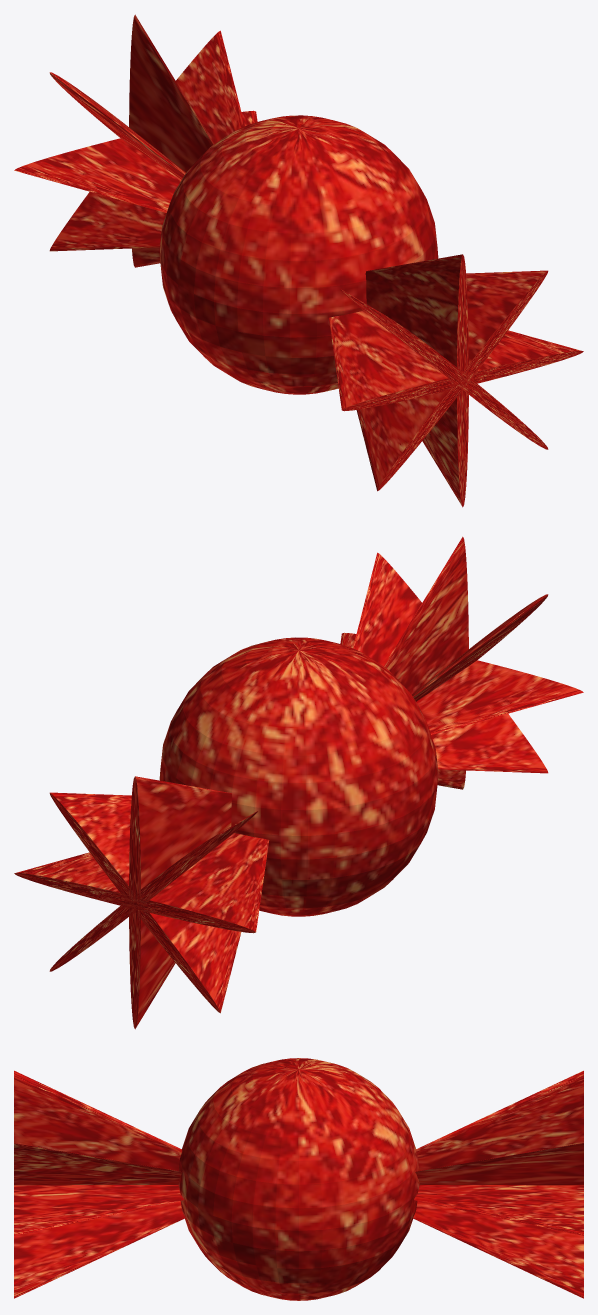
File: candy.glb
3 renders of one model, top to bottom at view 1: azimuth 30°, elevation 25°; view 2: azimuth 150°, elevation 25°; view 3: azimuth 270°, elevation 25°, orthographic. The views are drawn at different scales.
Visible parts, largest first — view 1: Sphere, Cone.005, Cone.004, Cone.002, Cone.006, Cone.003, Cone, Cone.001, Cone.007; view 2: Sphere, Cone.003, Cone, Cone.006, Cone.002, Cone.005, Cone.004, Cone.007, Cone.001; view 3: Sphere, Cone.001, Cone.005, Cone.007, Cone.003, Cone.004, Cone, Cone.002, Cone.006.
Boxes of the visible parts, x1,y1,x2,y2 form: Sphere: [159, 115, 438, 394]; Cone.005: [365, 254, 468, 507]; Cone.004: [328, 311, 583, 411]; Cone.002: [356, 270, 548, 491]; Cone.006: [49, 30, 244, 251]; Cone.003: [129, 14, 213, 267]; Cone: [14, 110, 257, 212]; Cone.001: [340, 289, 548, 449]; Cone.007: [49, 72, 185, 179]; Sphere: [159, 637, 438, 916]; Cone.003: [129, 776, 231, 1029]; Cone: [14, 833, 269, 933]; Cone.006: [49, 792, 241, 1013]; Cone.002: [353, 552, 548, 773]; Cone.005: [384, 536, 468, 789]; Cone.004: [340, 632, 583, 734]; Cone.007: [49, 811, 257, 971]; Cone.001: [412, 594, 548, 701]; Sphere: [178, 1058, 419, 1300]; Cone.001: [14, 1070, 184, 1298]; Cone.005: [14, 1074, 181, 1170]; Cone.007: [413, 1070, 583, 1298]; Cone.003: [416, 1074, 583, 1170]; Cone.004: [14, 1185, 183, 1235]; Cone: [414, 1185, 583, 1235]; Cone.002: [14, 1143, 182, 1185]; Cone.006: [415, 1143, 583, 1185].
Size of the model in its own units: 0.02 by 0.0205 by 0.0469.
9 materials, 9 textured.
